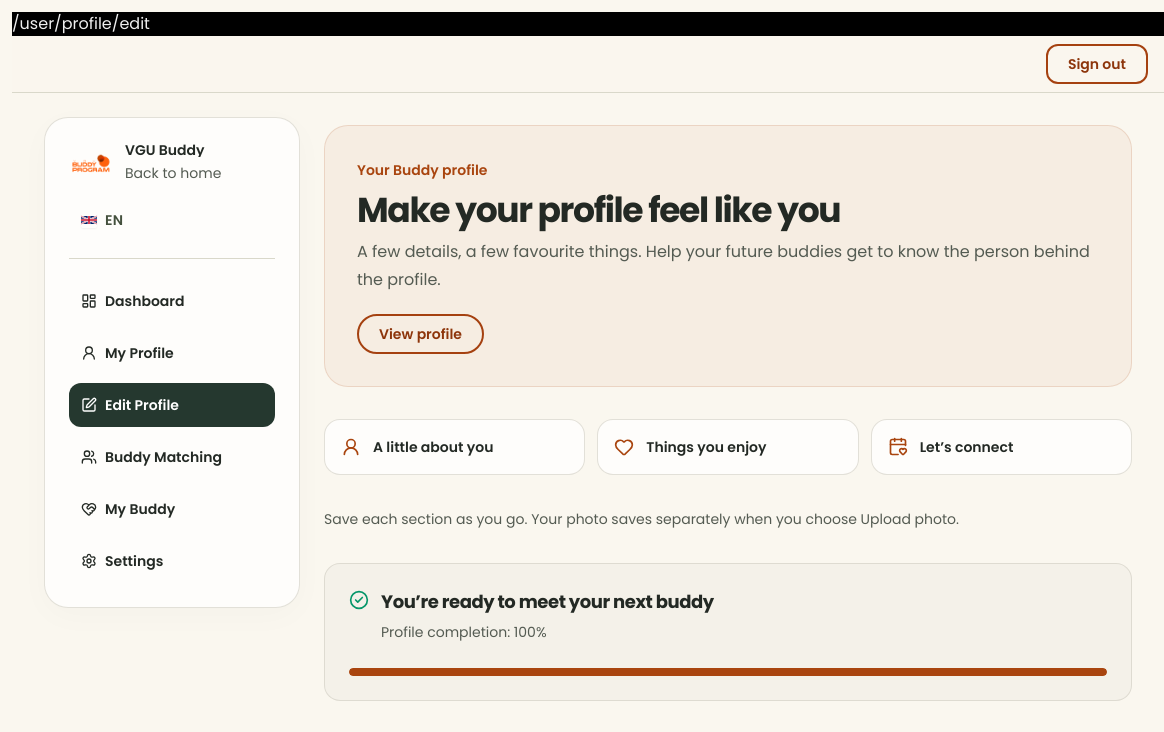
Test: AUTH-005 App routes + AUTH-021 bootstrap/logout › logout immediately removes the protected layout and private cache before backend completion
Click the button "Sign out": (1097, 64) [1046, 44, 1148, 84]
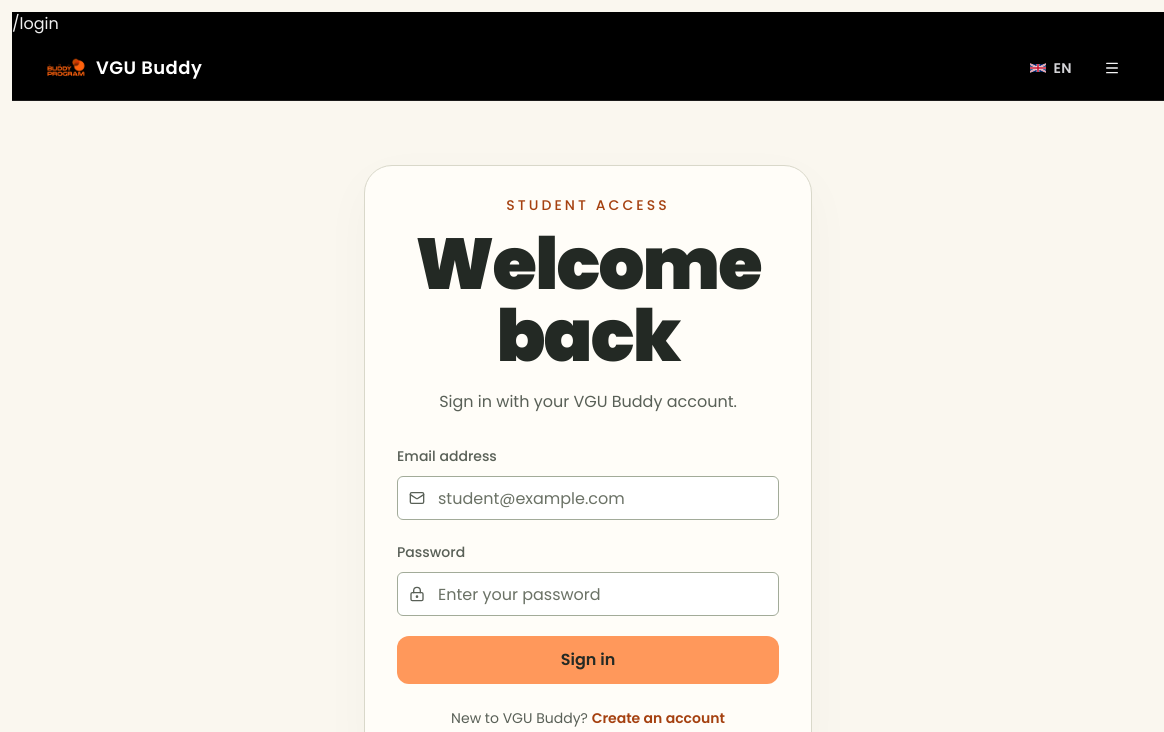
Result: the heading "Welcome back" is shown at [397, 228, 779, 372]
Result: the text with test id "location" reads "/login" at [12, 12, 59, 35]
